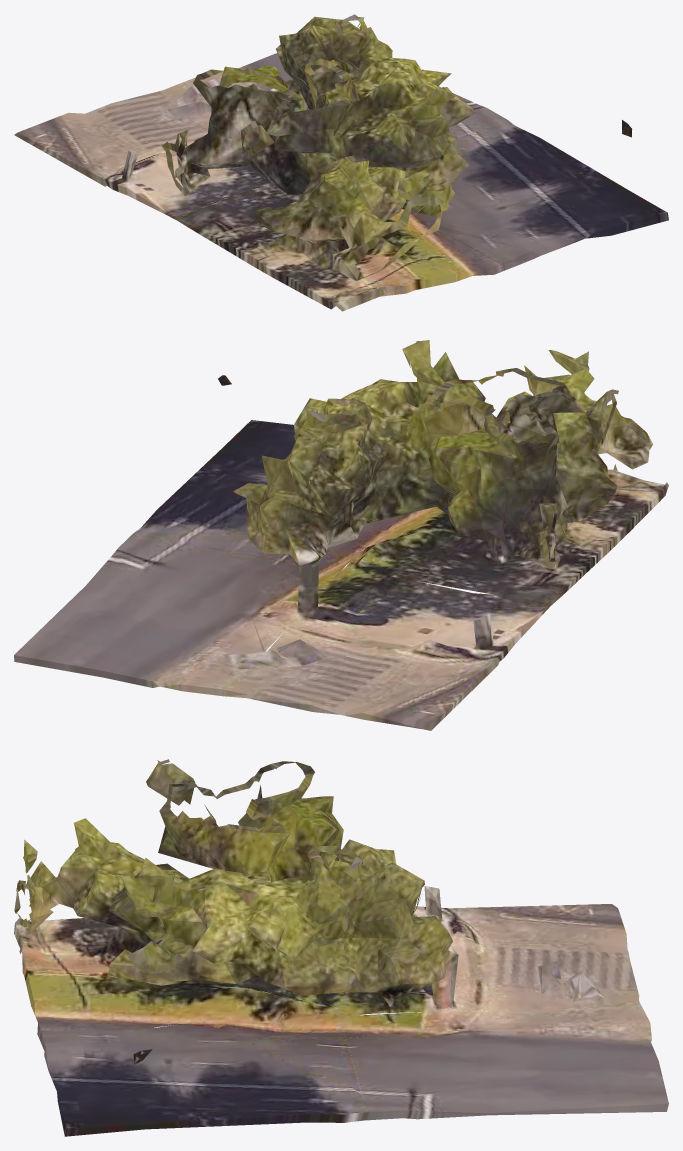
3 views of the same model, one above another, from view 1: azimuth 30°, elevation 25°; view 2: azimuth 150°, elevation 25°; view 3: azimuth 270°, elevation 25° (orthographic). The views are drawn at different scales.
Parts seen in each view (by area): view 1: Mesh_0; view 2: Mesh_0; view 3: Mesh_0.
Boxes of the visible parts, x1,y1,x2,y2 form: Mesh_0: (14, 14, 668, 311); Mesh_0: (14, 340, 668, 730); Mesh_0: (14, 759, 668, 1136).
Size of the model in its own units: 33.33 by 12.5 by 41.26.
2 materials, 2 textured.
